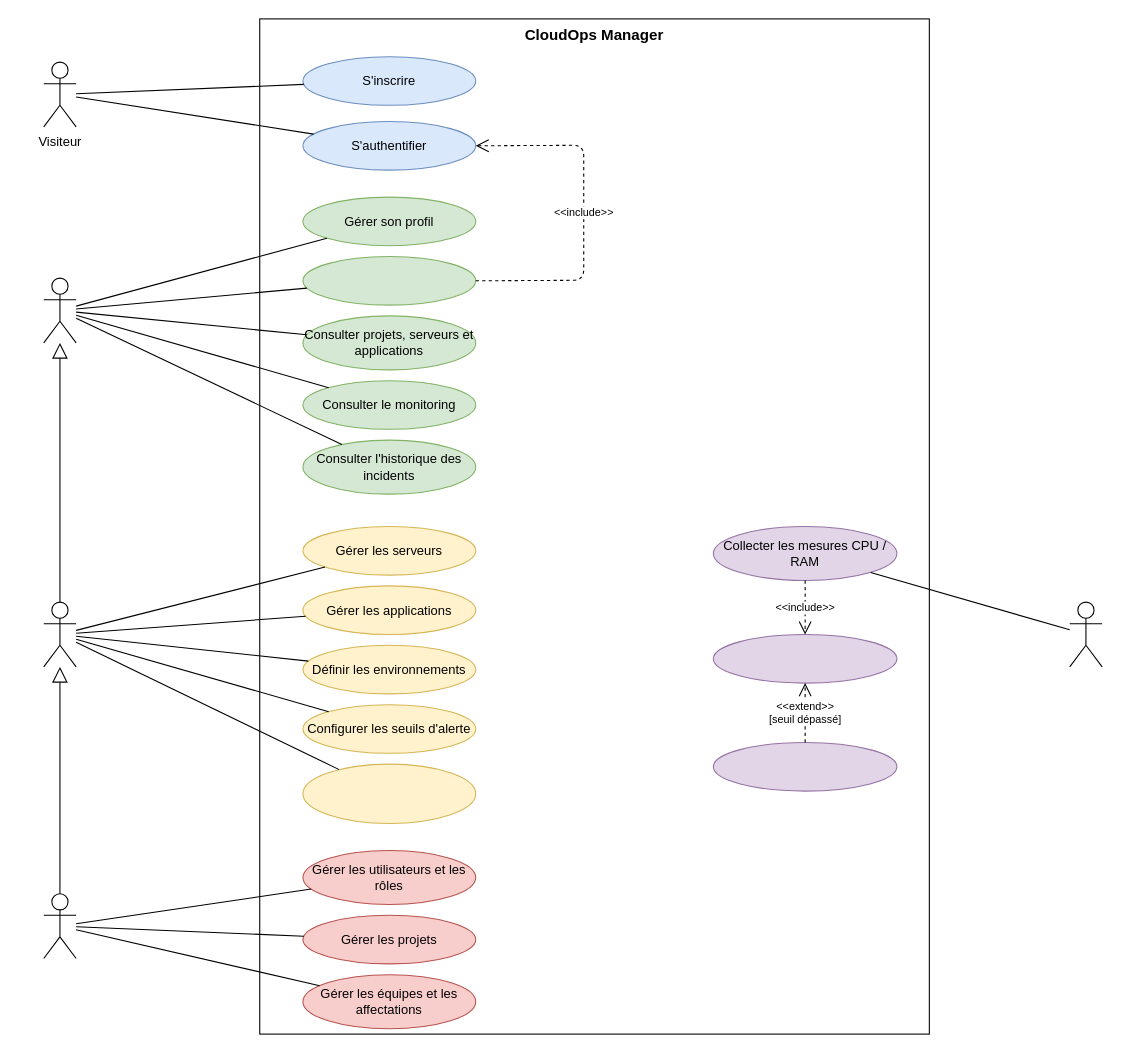
This 1144x1053 diagram has some shape labels left out. Here are the shapes that lost their labels. From the top down, the centre of each, then its label:
At [389,280]: "Consulter le tableau de bord".
At [59,310]: "Viewer".
At [59,634]: "DevOps".
At [1085,634]: "Système (planificateur)".
At [804,658]: "Vérifier les seuils".
At [804,766]: "Générer une alerte".
At [389,793]: "Traiter une alerte (prendre en charge / résoudre)".
At [59,926]: "Administrateur".
